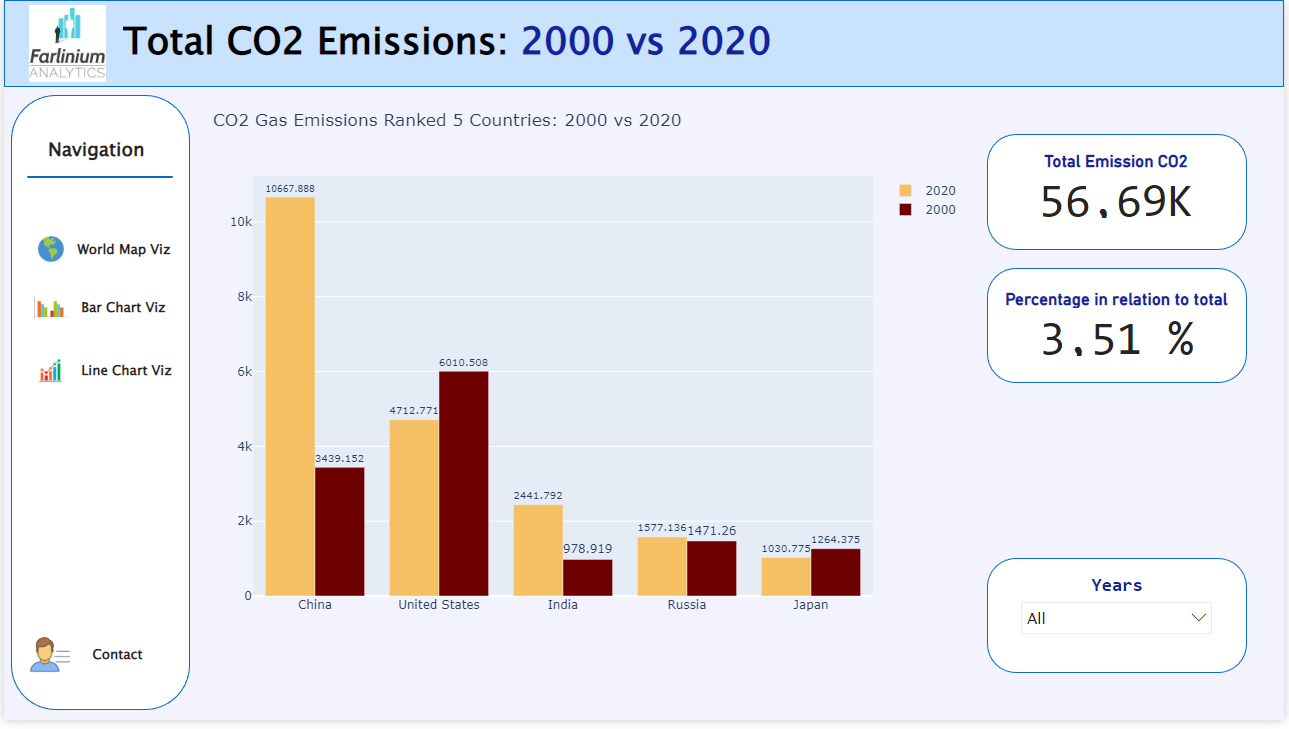

What the dashboard file says about the page in this screenshot:
{"tool":"powerbi","page":{"name":"Plotly: Barchart","canvas":[1280,720],"ordinal":1},"visuals":[{"type":"pythonVisual","fields":{"Values":["countries_co2_history (2).year","countries_co2_history (2).country","countries_co2_history (2).co2"]},"box":[140,32,857,688],"z":0},{"type":"shape","box":[0,0,1280,87],"z":1000},{"type":"shape","box":[7,95,179,615],"z":2000},{"type":"image","box":[0,0,126,87],"z":3000},{"type":"textbox","box":[114,8,1153,79],"z":4000},{"type":"shape","box":[982.8,267.7,260,115.6],"z":5000},{"type":"shape","box":[982.8,134.3,260,115.6],"z":6000},{"type":"card","title":"Percentage in relation to total","fields":{"Values":["countries_co2_history (2).percentage_co2"]},"box":[987.2,288.8,251.1,72.2],"z":7000},{"type":"card","title":"Total Emission CO2","fields":{"Values":["Sum(countries_co2_history (2).co2)"]},"box":[1029.4,151,165.6,72.2],"z":8000},{"type":"shape","box":[982.8,557.7,260,115.6],"z":9000},{"type":"group","id":"g1","title":"Group 1","box":[1071.7,568.8,82.2,46.7],"z":10000},{"type":"image","box":[27.7,230.8,37.7,36.2],"z":11000},{"type":"textbox","box":[1071.7,568.8,81.9,47],"z":11000,"group":"g1"},{"type":"slicer","fields":{"Values":["Calendar.Date.Variation.Date Hierarchy.Year"]},"box":[1007.2,592.1,211.1,66.7],"z":12000},{"type":"textbox","box":[62.7,233.6,114.5,30.9],"z":13000},{"type":"textbox","box":[38.9,131.3,114.8,46.7],"z":14000},{"type":"image","box":[18.6,341.4,55.7,57.6],"z":15000},{"type":"textbox","box":[61.9,291.9,115,31.2],"z":16000},{"type":"shape","box":[22.7,155.5,146.4,43.6],"z":17000},{"type":"textbox","box":[65.2,354.8,115.2,32.4],"z":18000},{"type":"image","box":[21.9,273.1,49.4,68.1],"z":19000},{"type":"image","box":[20,629,52,52],"z":19001},{"type":"textbox","box":[56,639,115,32],"z":19002}]}

Visuals, with their boxes in screenshot pixels (x1, y1, x2, y2), scaled from the page's 1280x720 canvas onto the 1289x729 screenshot:
pythonVisual - countries_co2_history (2).year x countries_co2_history (2).country: rect(141, 32, 1004, 728)
shape: rect(0, 0, 1288, 88)
shape: rect(7, 96, 187, 719)
image: rect(0, 0, 127, 88)
textbox: rect(115, 8, 1276, 88)
shape: rect(990, 271, 1252, 388)
shape: rect(990, 136, 1252, 253)
"Percentage in relation to total" card: rect(994, 292, 1247, 366)
"Total Emission CO2" card: rect(1037, 153, 1203, 226)
shape: rect(990, 565, 1252, 682)
"Group 1" group: rect(1079, 576, 1162, 623)
image: rect(28, 234, 66, 270)
textbox: rect(1079, 576, 1162, 623)
slicer - Calendar.Date.Variation.Date Hierarchy.Year: rect(1014, 600, 1227, 667)
textbox: rect(63, 237, 178, 268)
textbox: rect(39, 133, 155, 180)
image: rect(19, 346, 75, 404)
textbox: rect(62, 296, 178, 327)
shape: rect(23, 157, 170, 202)
textbox: rect(66, 359, 182, 392)
image: rect(22, 277, 72, 345)
image: rect(20, 637, 73, 690)
textbox: rect(56, 647, 172, 679)
